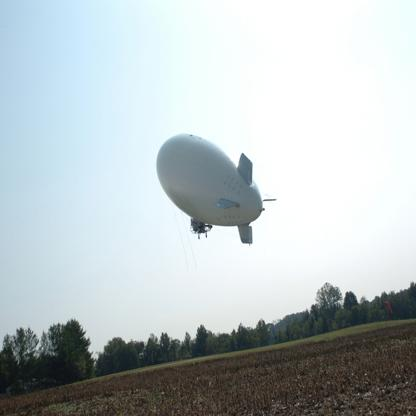Airship: (154, 129, 280, 254)
